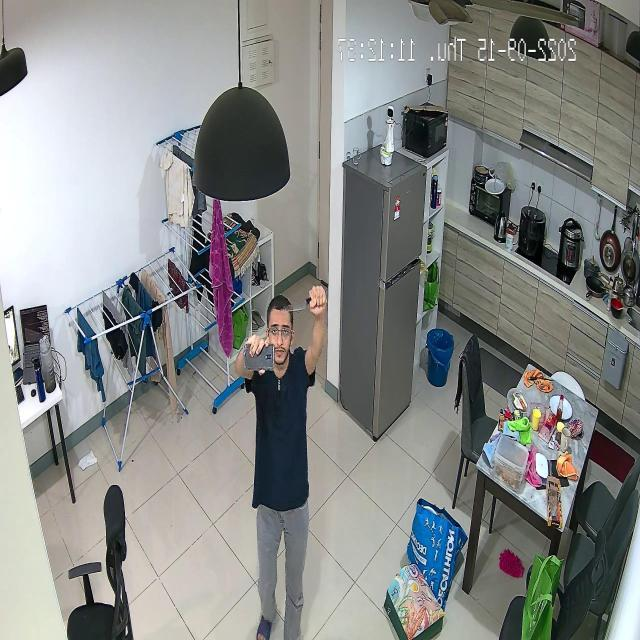Knife: (279, 284, 331, 318)
